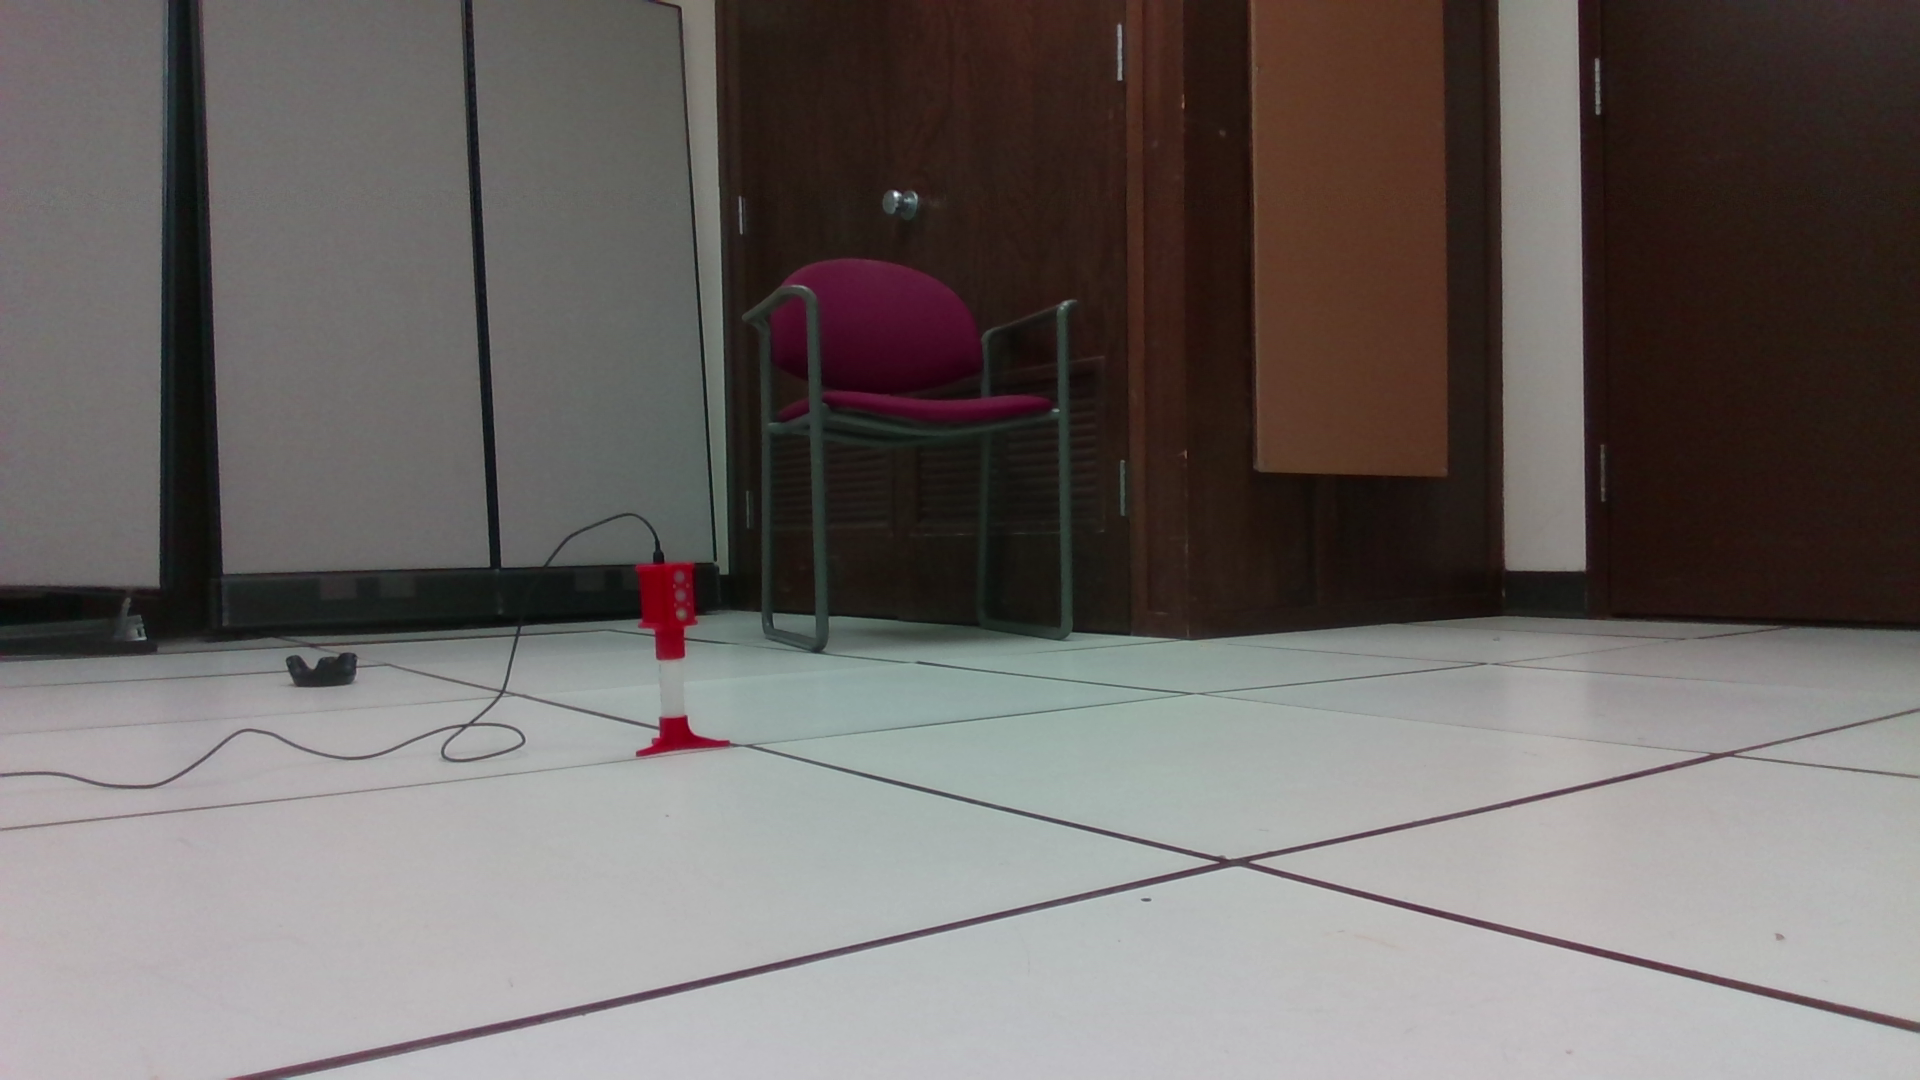stoplight: (640, 566, 699, 658)
